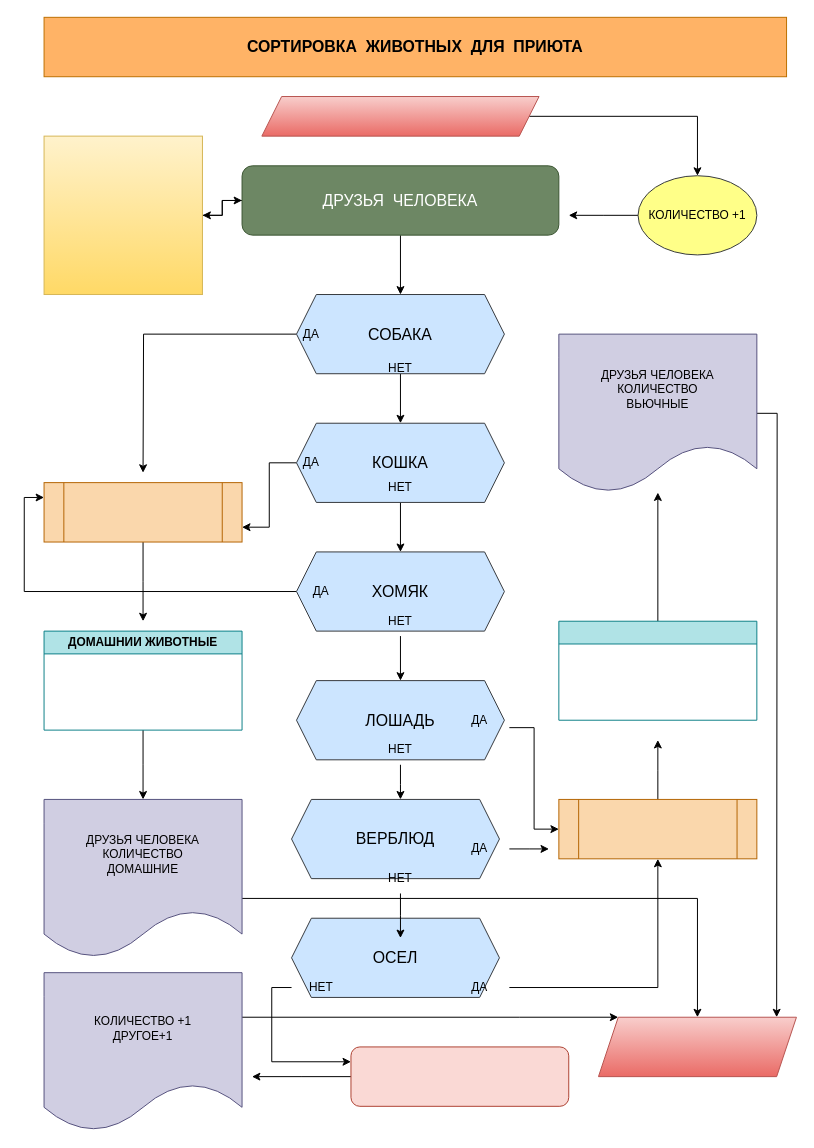
The diagram is 814 pixels wide and 1148 high, and some of its shapes have lost their labels. The shapes that lost their labels are listed below. From the top down, each one's centre as x and y in pixels, then its label:
point (400, 116): СТАРТ
point (122, 215): КОЛИЧЕСТВО = 0 ДОМАШНИЕ = 0 ВЬЮЧНЫЕ = 0 ДРУГОЕ=0
point (142, 512): КОЛИЧЕСТВО +! ДОМАШНИЕ +!
point (657, 670): ВЬЮЧНЫЕ ЖИВОТНЫЕ
point (657, 828): КОЛИЧЕСТВО +1 ВЬЮЧНЫЕ +1
point (696, 1046): ФИНИШ
point (459, 1076): ЧТО ТЫ ТАКОЕ?
